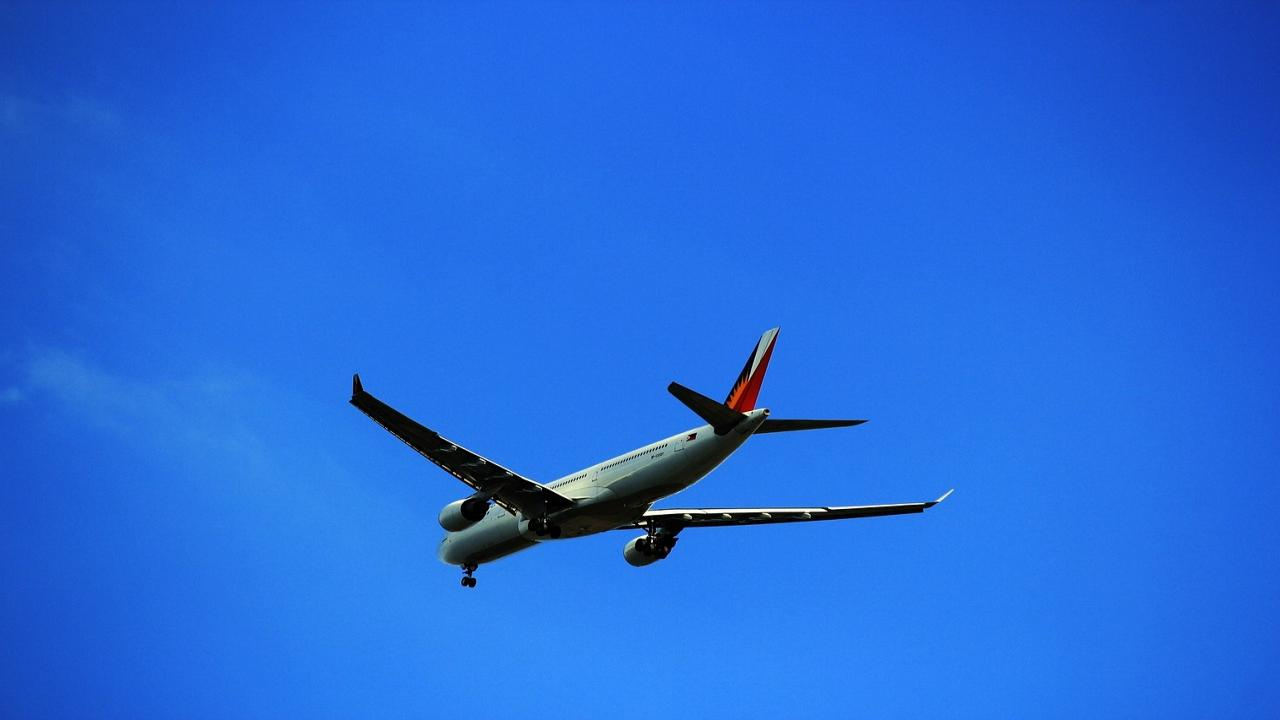Airplane: (334, 313, 972, 601)
